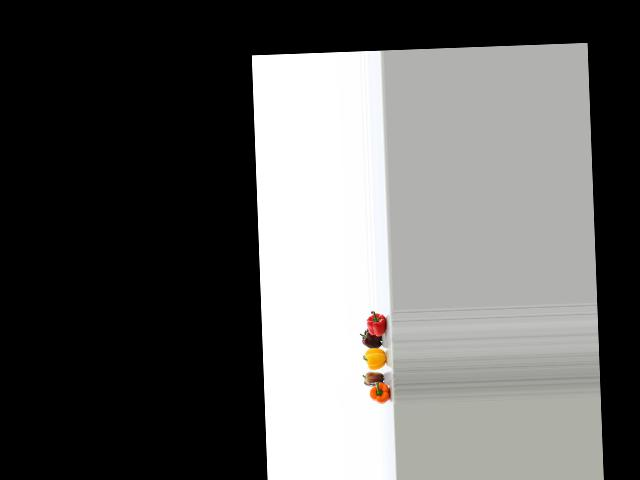bell_pepper: (362, 381, 392, 404)
